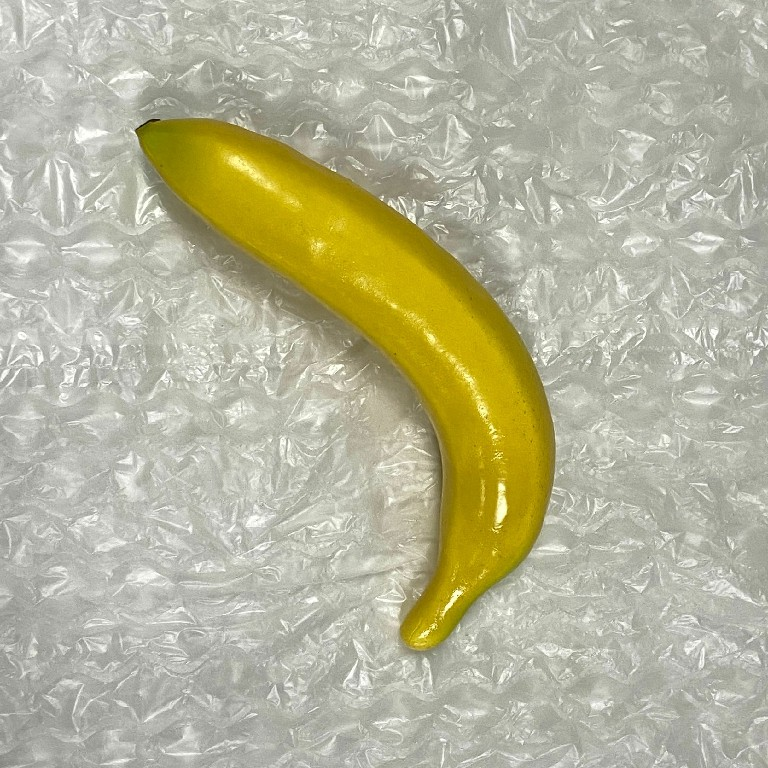fruit_banana: (129, 114, 561, 661)
